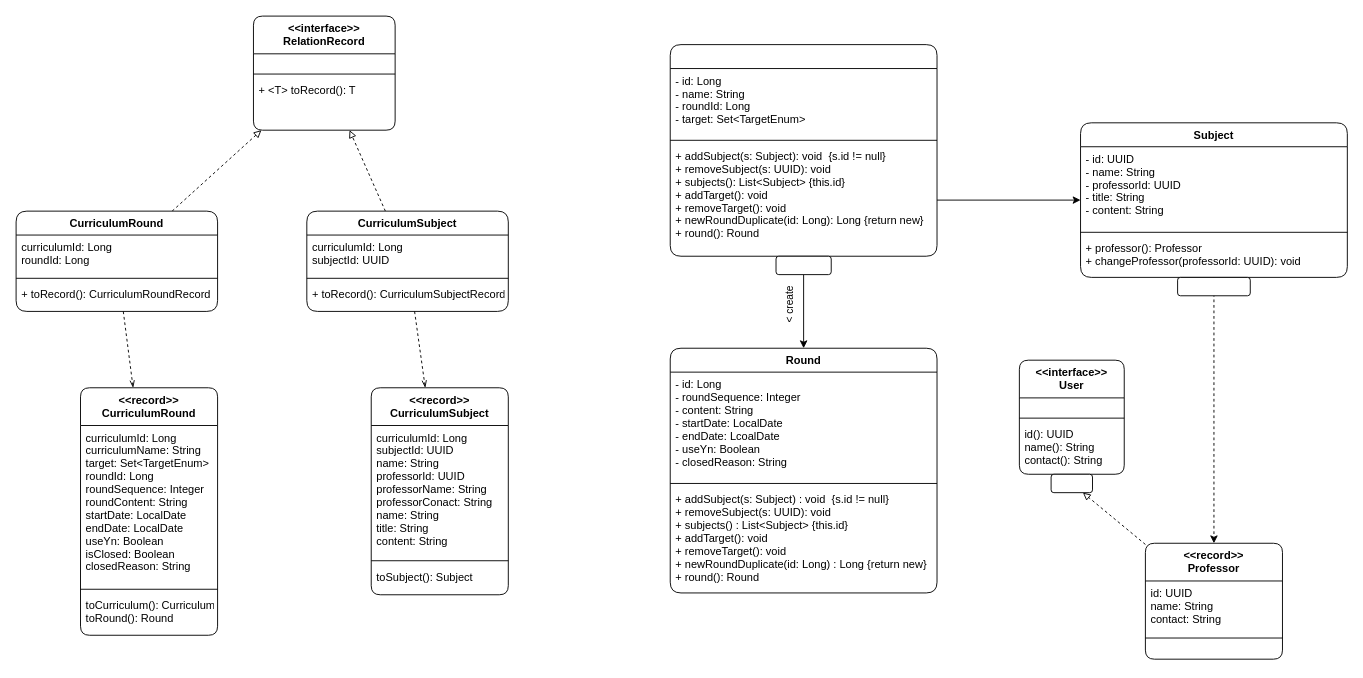
This 1363x678 diagram has some shape labels left out. Here are the shapes that lost their labels. From the top down, the box of each, then its label:
(669, 44, 937, 256): Curriculum
(775, 255, 831, 275): roundId
(1177, 276, 1250, 296): professorId
(1050, 473, 1092, 493): sealed
